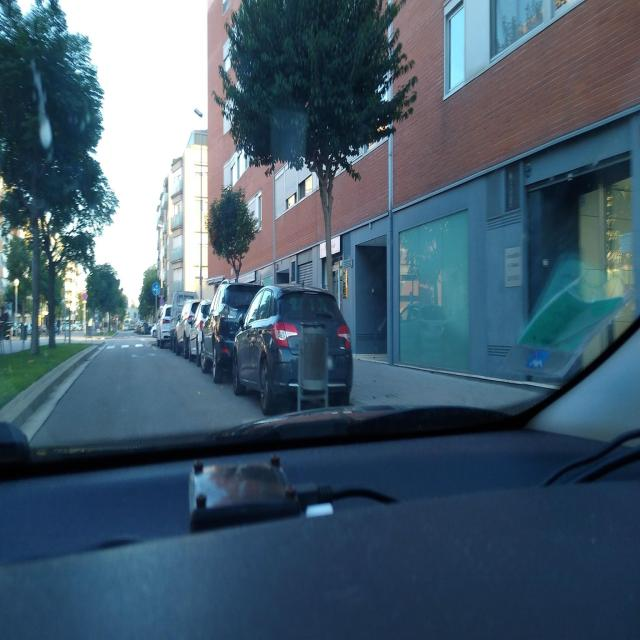forb_stopping: (82, 293, 87, 301), (159, 298, 164, 306)
